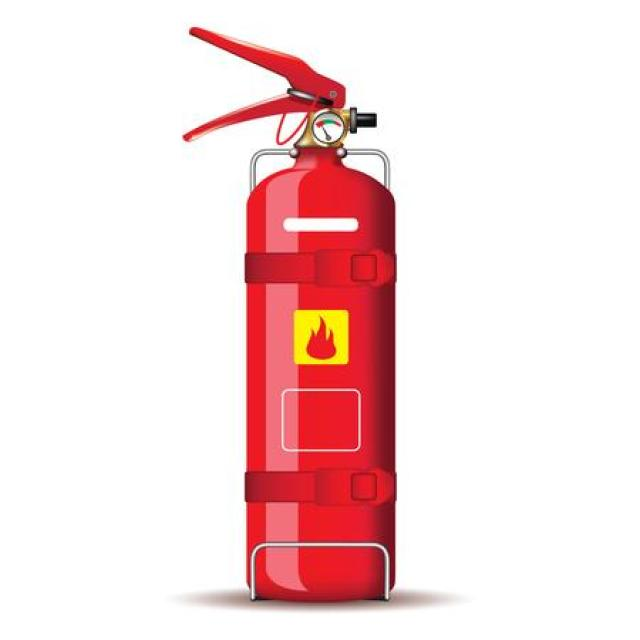fire_extinguisher: (173, 21, 410, 612)
